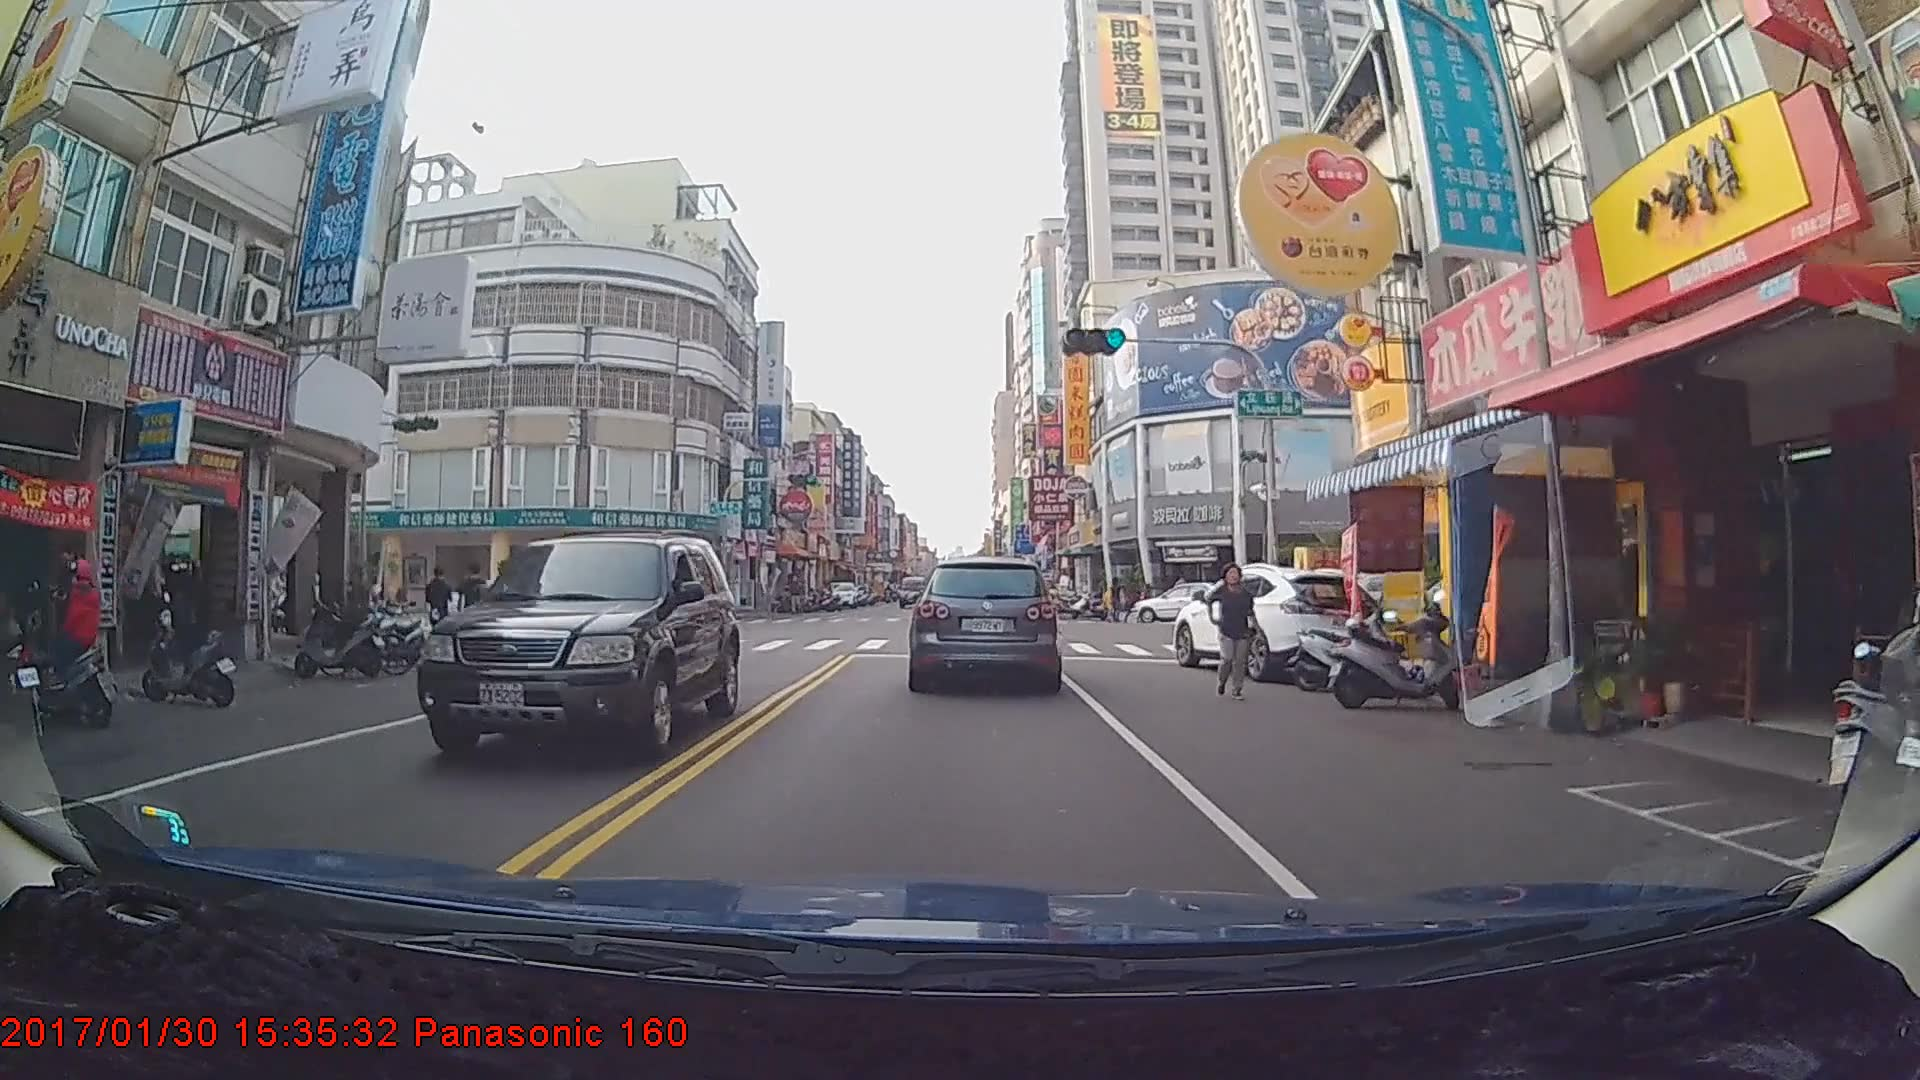pedestrian: (1212, 565, 1263, 707), (48, 540, 96, 688), (423, 567, 456, 650)
rider: (14, 554, 121, 726)
vehicle: (403, 532, 738, 767), (1172, 564, 1391, 684), (911, 555, 1059, 693), (1128, 581, 1251, 623), (823, 579, 859, 609), (897, 578, 929, 610)
